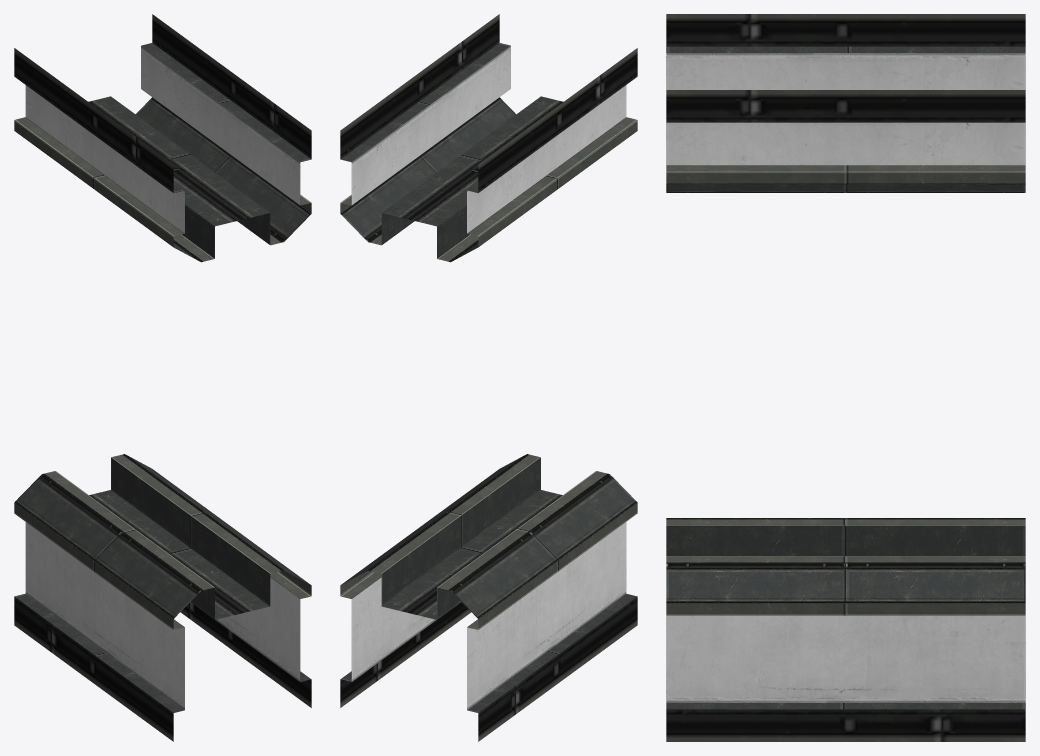
Rendered from Neon_WindowFrameMidB.FBX.
3 renders of one model, left to right at view 1: azimuth 30°, elevation 25°; view 2: azimuth 150°, elevation 25°; view 3: azimuth 270°, elevation 25°, orthographic. The views are drawn at different scales.
Parts seen in each view (by area): view 1: Neon_WindowFrameMidB; view 2: Neon_WindowFrameMidB; view 3: Neon_WindowFrameMidB.
Part boxes in pixels (x1,y1,x2,y2): Neon_WindowFrameMidB: [14, 14, 311, 741]; Neon_WindowFrameMidB: [340, 14, 637, 741]; Neon_WindowFrameMidB: [666, 14, 1025, 741].
Size of the model in its own units: 1 by 4 by 2.
